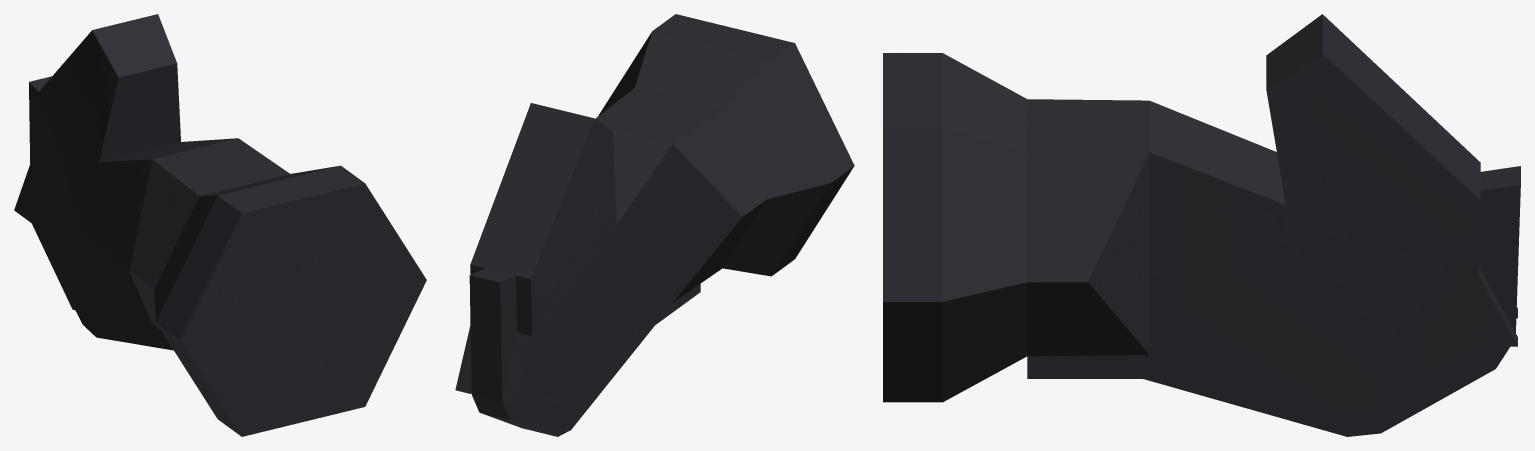
The model's file is statue_symbol_chess_black_2.FBX.
The picture shows the model from 3 angles, left to right: view 1: azimuth 30°, elevation 25°; view 2: azimuth 150°, elevation 25°; view 3: azimuth 270°, elevation 25°; orthographic projection. The views are drawn at different scales.
Parts seen in each view (by area): view 1: acc_3.001; view 2: acc_3.001; view 3: acc_3.001.
Boxes of the visible parts, box(x1,y1,x2,y2) form: acc_3.001: box(14, 14, 426, 436); acc_3.001: box(455, 14, 854, 436); acc_3.001: box(883, 14, 1520, 436).
Bounding box in the file's own units: 154 × 189 × 279.
